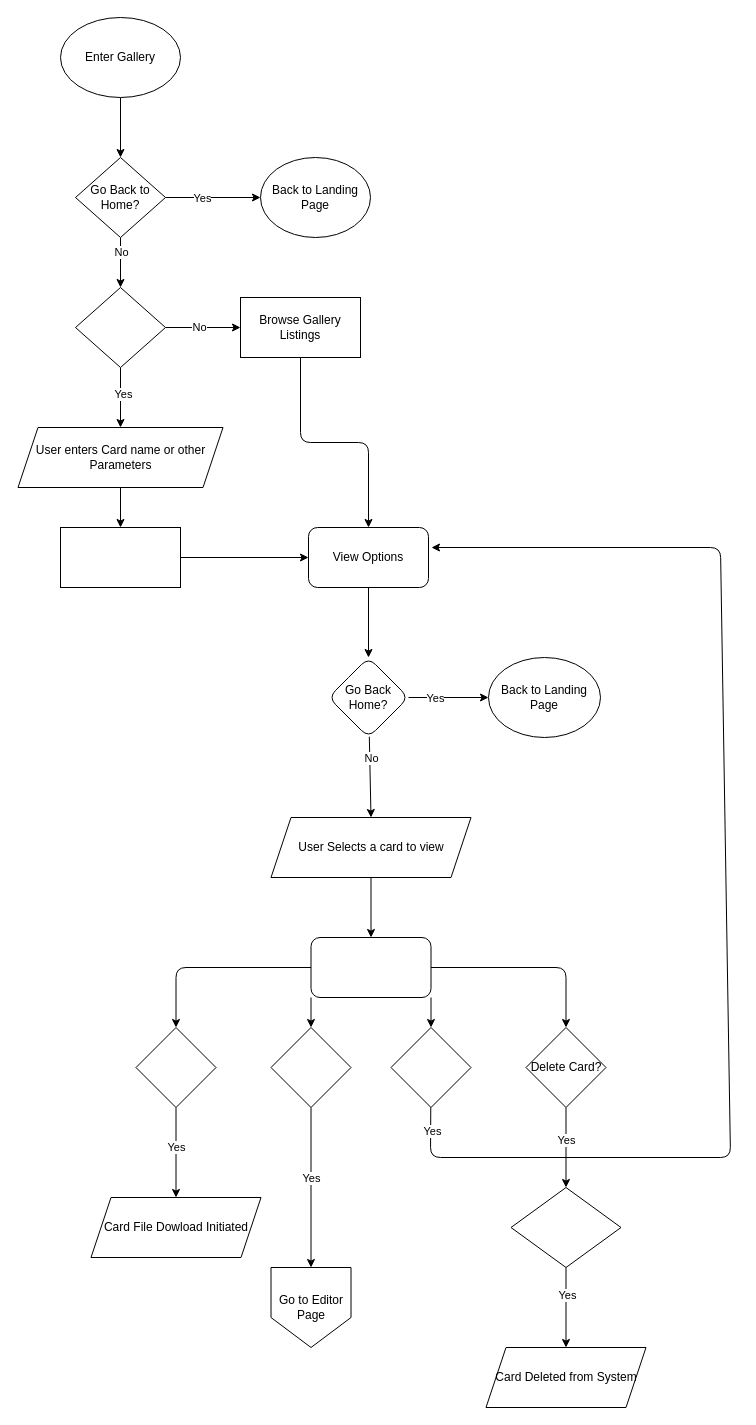
Some shapes in this 756 by 1425 pixel diagram are drawn without their labels. Each missing label, with the box of its shape:
Are You Sure?: (510, 1186, 621, 1268)
Card Modal: (310, 936, 431, 998)
Close Card?: (390, 1026, 471, 1108)
Download Card?: (135, 1026, 216, 1108)
Edit Card?: (270, 1026, 351, 1108)
Search for a Card?: (74, 286, 166, 368)
Show Matching results: (60, 526, 180, 588)
